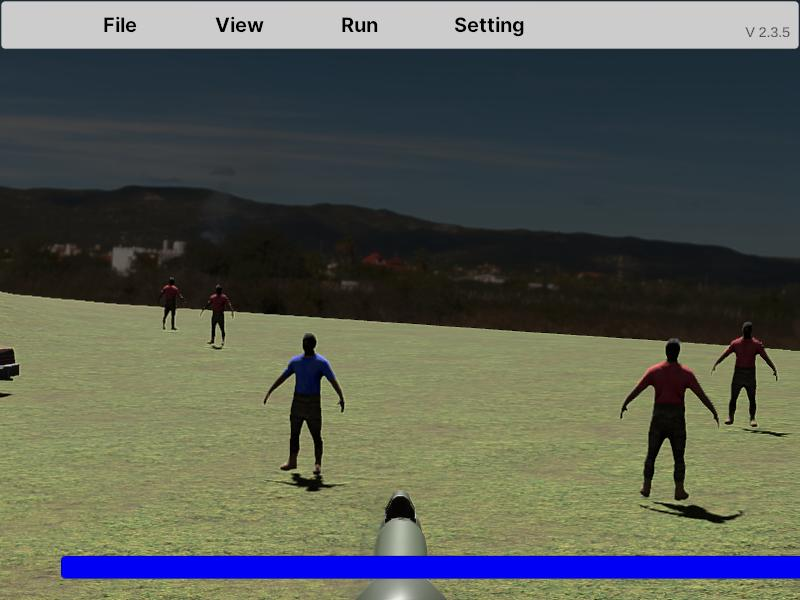Human: (621, 337, 719, 502), (263, 331, 344, 476), (712, 321, 778, 429)
car: (0, 324, 20, 399)
